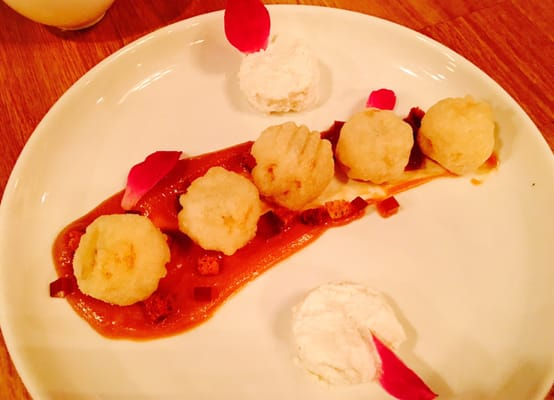pasta: (72, 214, 170, 306), (176, 168, 262, 256)
